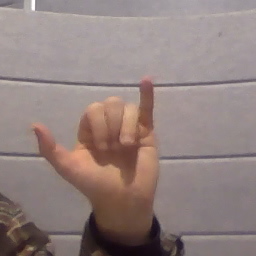Y: (29, 73, 165, 202)
